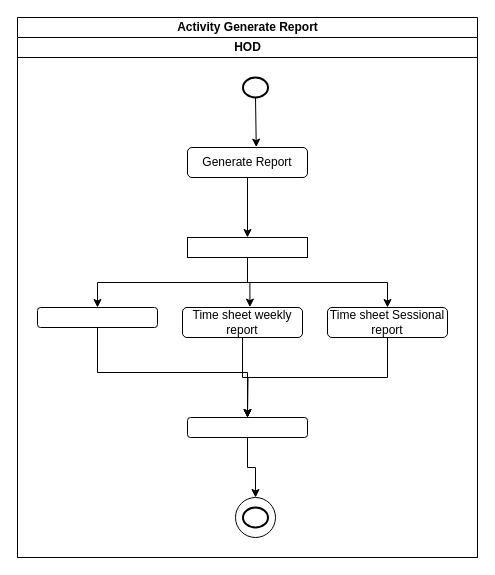
The diagram is 495 pixels wide and 575 high, and some of its shapes have lost their labels. Each missing label, with the centre of its shape:
"Lab Schedule report" belongs at point 97,317.
"Report Generated" belongs at point 247,427.
"Select Report type" belongs at point 247,247.
